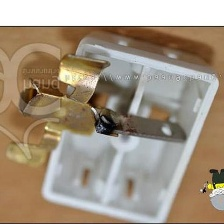three_eye_plug: (2, 27, 223, 222)
